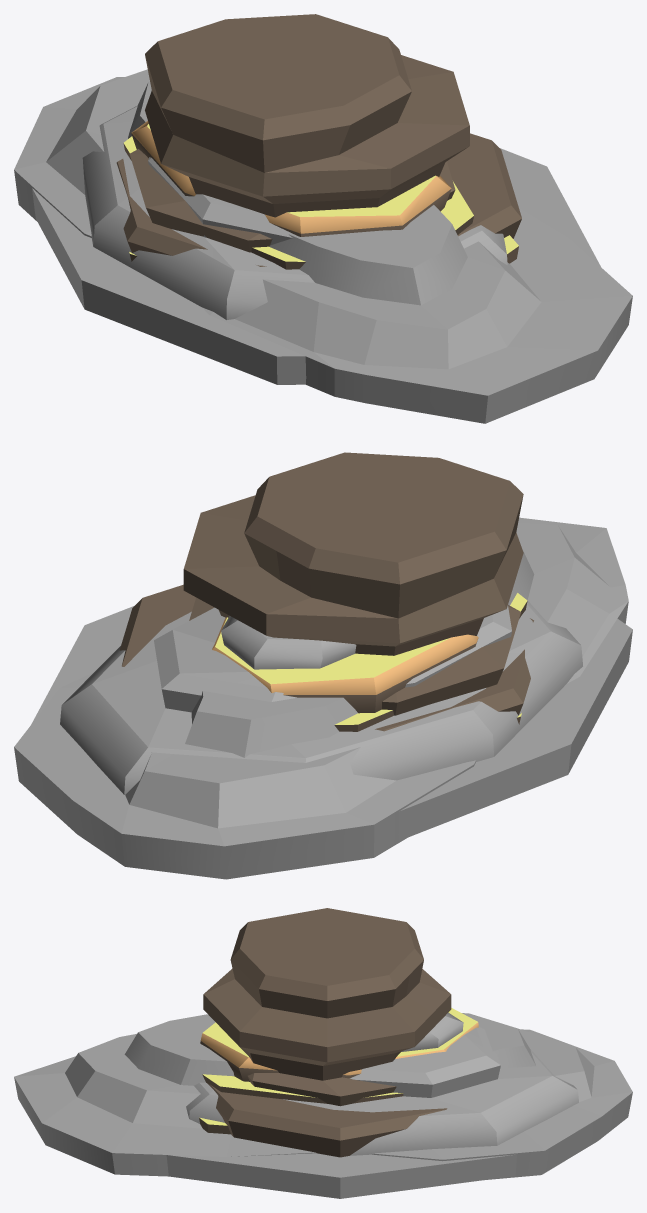
Rendered from Rock02.fbx.
3 renders of one model, top to bottom at view 1: azimuth 30°, elevation 25°; view 2: azimuth 150°, elevation 25°; view 3: azimuth 270°, elevation 25°, orthographic. The views are drawn at different scales.
Parts seen in each view (by area): view 1: Rock_Shelf6, Rock_Shelf4, Rock_Shelf5, Rock_Shelf2; view 2: Rock_Shelf4, Rock_Shelf6, Rock_Shelf5, Rock_Shelf2; view 3: Rock_Shelf4, Rock_Shelf6, Rock_Shelf5, Rock_Shelf2.
Boxes of the visible parts, x1,y1,x2,y2 form: Rock_Shelf6: [14, 69, 632, 423]; Rock_Shelf4: [116, 14, 521, 266]; Rock_Shelf5: [32, 105, 600, 384]; Rock_Shelf2: [123, 121, 518, 269]; Rock_Shelf4: [119, 452, 533, 731]; Rock_Shelf6: [14, 517, 628, 879]; Rock_Shelf5: [31, 601, 632, 840]; Rock_Shelf2: [212, 593, 527, 731]; Rock_Shelf4: [203, 908, 451, 1157]; Rock_Shelf6: [14, 1013, 632, 1179]; Rock_Shelf5: [166, 1012, 578, 1198]; Rock_Shelf2: [199, 1008, 478, 1134].
Size of the model in its own units: 510 by 218 by 792.
